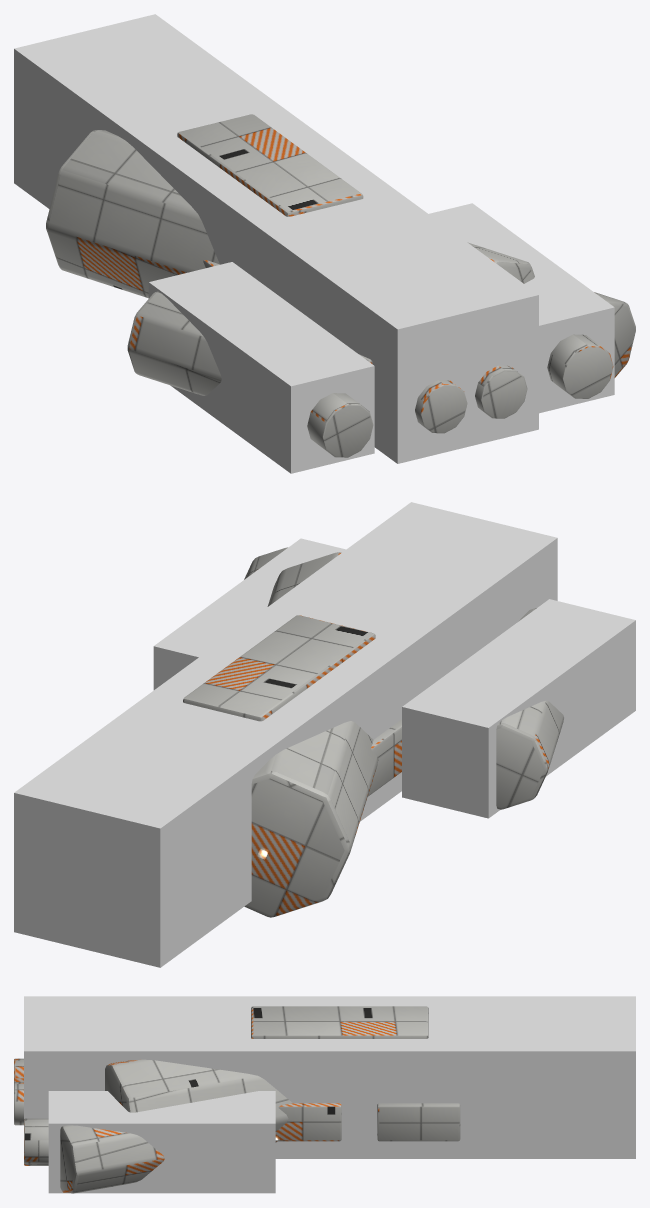
Rendered from test_hull.glb.
3 views of the same model, one above another, from view 1: azimuth 30°, elevation 25°; view 2: azimuth 150°, elevation 25°; view 3: azimuth 270°, elevation 25° (orthographic). The views are drawn at different scales.
Visible parts, largest first — view 1: COL_body, hull, COL_pod_l, COL_pod_r; view 2: COL_body, hull, COL_pod_l, COL_pod_r; view 3: COL_body, hull, COL_pod_r.
Boxes of the visible parts, left/top/right/bottom form: COL_body: left=14, top=14, right=538, bottom=463; hull: left=46, top=114, right=635, bottom=457; COL_pod_l: left=148, top=262, right=374, bottom=473; COL_pod_r: left=429, top=203, right=614, bottom=413; COL_body: left=14, top=502, right=557, bottom=967; hull: left=183, top=547, right=563, bottom=917; COL_pod_l: left=402, top=599, right=635, bottom=818; COL_pod_r: left=153, top=538, right=345, bottom=689; COL_body: left=24, top=996, right=635, bottom=1158; hull: left=14, top=1006, right=460, bottom=1193; COL_pod_r: left=48, top=1091, right=275, bottom=1193.
Bounding box in the file's own units: 18.74 × 6.94 × 31.5.
Materials: 1 (1 with a texture image).
